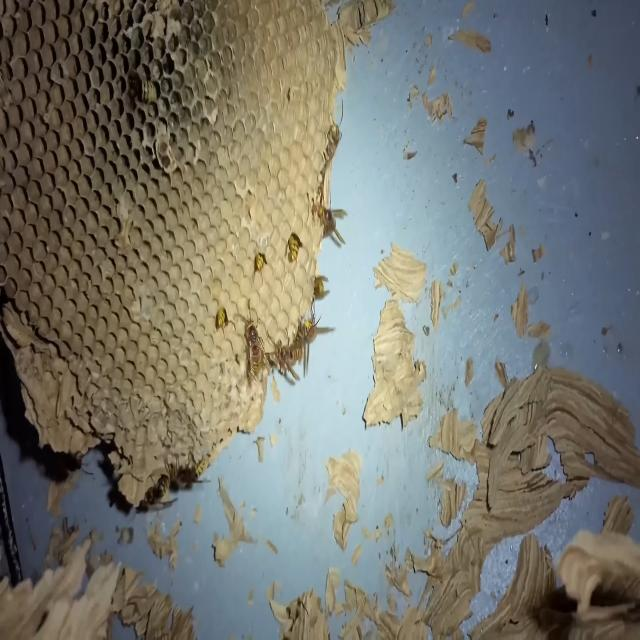Hornets: (296, 303, 336, 378), (240, 299, 265, 388), (165, 452, 213, 490), (134, 472, 172, 512)
